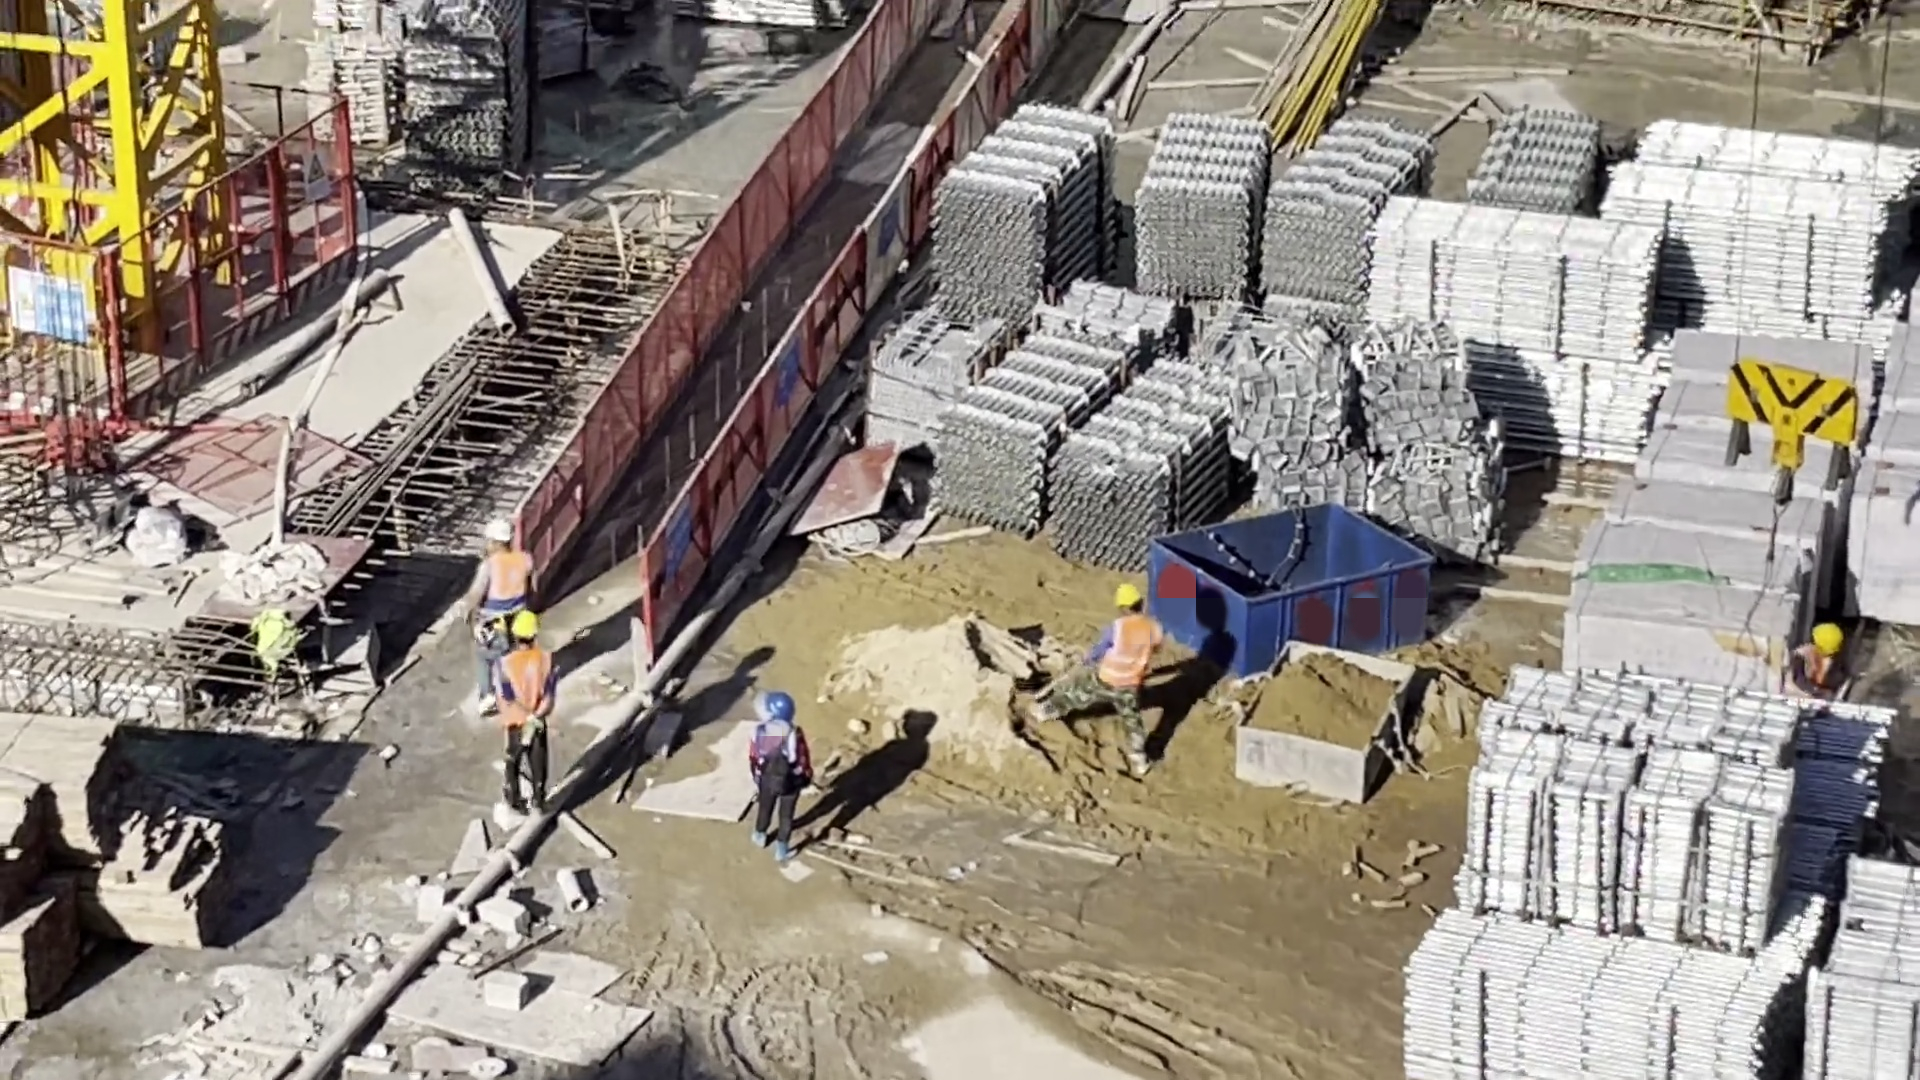fence: (516, 1, 1049, 667)
helmet: (493, 591, 553, 657), (1809, 608, 1858, 677), (481, 510, 521, 549), (1103, 579, 1142, 614), (761, 687, 793, 720)
hook: (1712, 342, 1865, 496)
hopper: (1117, 499, 1470, 662), (1240, 632, 1380, 804)
person: (1064, 578, 1171, 778), (480, 610, 571, 804), (747, 693, 806, 857), (477, 521, 548, 655), (1775, 622, 1856, 706)
scaffold: (1415, 663, 1882, 1066), (1363, 100, 1651, 464), (920, 281, 1233, 554), (1607, 121, 1920, 384), (1133, 109, 1429, 325), (297, 1, 524, 183), (924, 108, 1115, 309), (1834, 839, 1920, 1080)
vest: (496, 650, 564, 728), (1099, 615, 1163, 692), (759, 724, 805, 773), (481, 553, 532, 590)
wood: (1, 712, 228, 1028)
